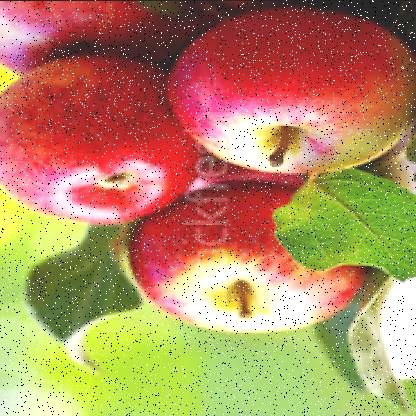apple: (174, 3, 414, 172), (130, 170, 346, 334), (2, 61, 198, 213)
